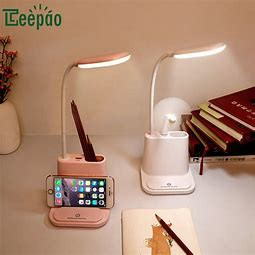pen: (149, 210, 190, 255), (71, 102, 95, 163)
